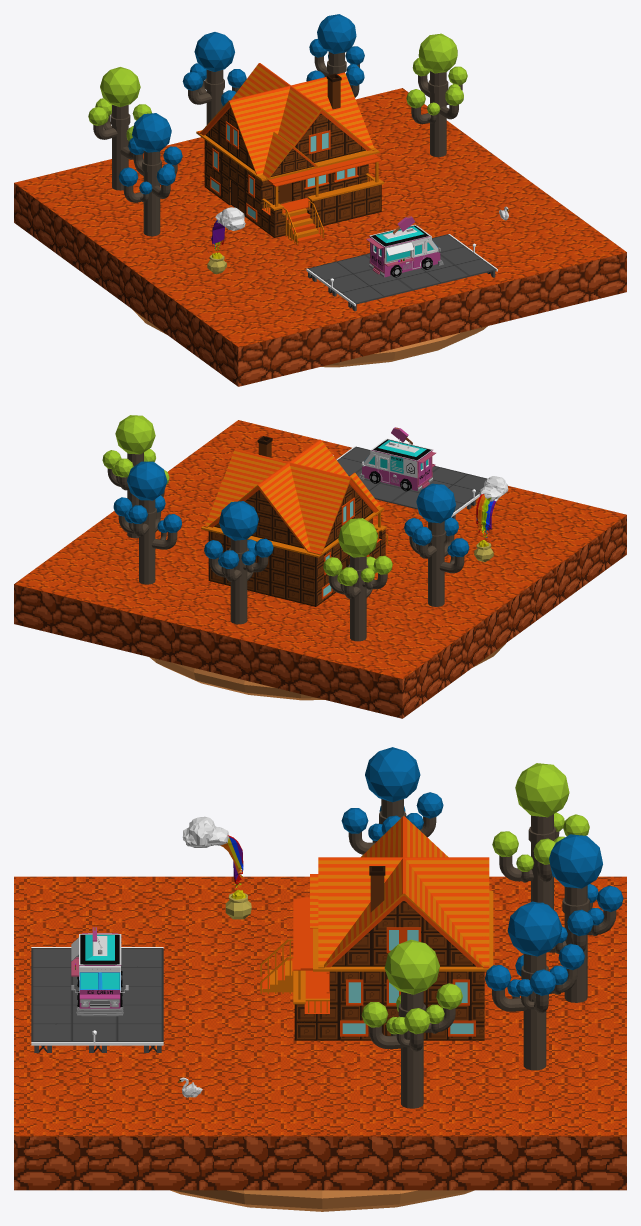
3 views of the same model, one above another, from view 1: azimuth 30°, elevation 25°; view 2: azimuth 150°, elevation 25°; view 3: azimuth 270°, elevation 25° (orthographic). The views are drawn at different scales.
Parts seen in each view (by area): view 1: Cube.001, Cube, VEHICLES_ICE_CREAM_TRUCK, UNDERGROUND_PIZZA, OBJRANDOM_RAINBOW; view 2: Cube.001, Cube, VEHICLES_ICE_CREAM_TRUCK, UNDERGROUND_PIZZA, OBJRANDOM_RAINBOW; view 3: Cube.001, Cube, UNDERGROUND_PIZZA, VEHICLES_ICE_CREAM_TRUCK, OBJRANDOM_RAINBOW.
Part boxes in pixels (bbox=[...]): Cube.001: bbox=[14, 14, 626, 386]; Cube: bbox=[196, 63, 384, 244]; VEHICLES_ICE_CREAM_TRUCK: bbox=[366, 216, 443, 277]; UNDERGROUND_PIZZA: bbox=[132, 309, 487, 367]; OBJRANDOM_RAINBOW: bbox=[207, 207, 245, 274]; Cube.001: bbox=[14, 415, 626, 718]; Cube: bbox=[201, 436, 387, 606]; VEHICLES_ICE_CREAM_TRUCK: bbox=[359, 427, 435, 491]; UNDERGROUND_PIZZA: bbox=[149, 643, 505, 700]; OBJRANDOM_RAINBOW: bbox=[474, 476, 508, 562]; Cube.001: bbox=[14, 747, 626, 1190]; Cube: bbox=[260, 816, 493, 1040]; UNDERGROUND_PIZZA: bbox=[170, 1190, 474, 1211]; VEHICLES_ICE_CREAM_TRUCK: bbox=[71, 927, 128, 1016]; OBJRANDOM_RAINBOW: bbox=[182, 816, 251, 919].
Size of the model in its own units: 4000 by 1875 by 4000.
48 materials, 5 textured.
